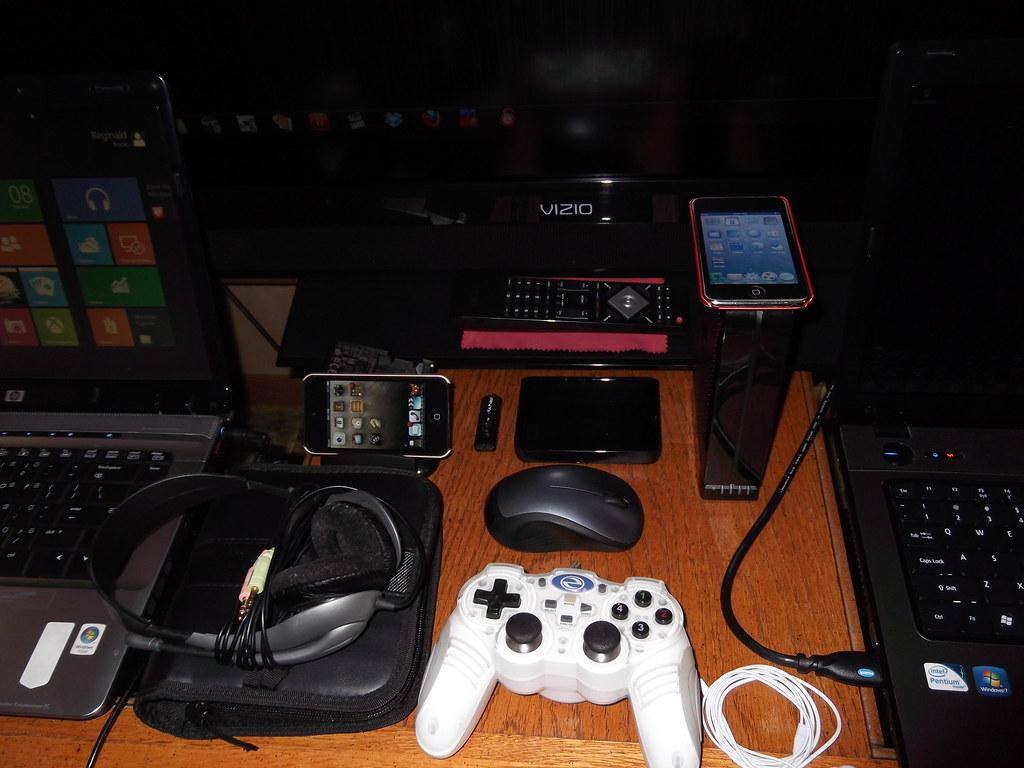computer: (1, 70, 243, 721), (821, 38, 1024, 767)
